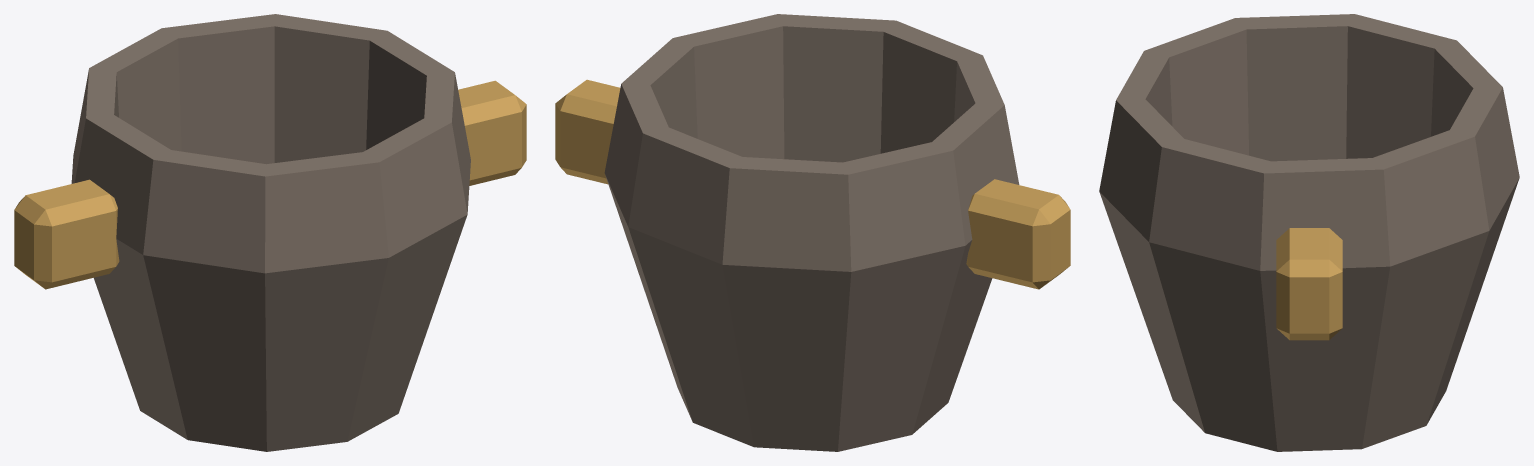
File: cooking_pot.glb
3 renders of one model, left to right at view 1: azimuth 30°, elevation 25°; view 2: azimuth 150°, elevation 25°; view 3: azimuth 270°, elevation 25°, orthographic.
Visible parts, largest first — view 1: Pot, Grip, Grip_001; view 2: Pot, Grip, Grip_001; view 3: Pot, Grip_001.
Part boxes in pixels (bbox=[...]): Pot: bbox=[71, 14, 470, 451]; Grip: bbox=[14, 179, 119, 289]; Grip_001: bbox=[458, 80, 526, 185]; Pot: bbox=[604, 14, 1019, 451]; Grip: bbox=[966, 179, 1070, 289]; Grip_001: bbox=[555, 79, 620, 184]; Pot: bbox=[1099, 14, 1519, 451]; Grip_001: bbox=[1276, 228, 1342, 340].
Bounding box in the file's own units: 0.5168 × 0.3 × 0.3788.
